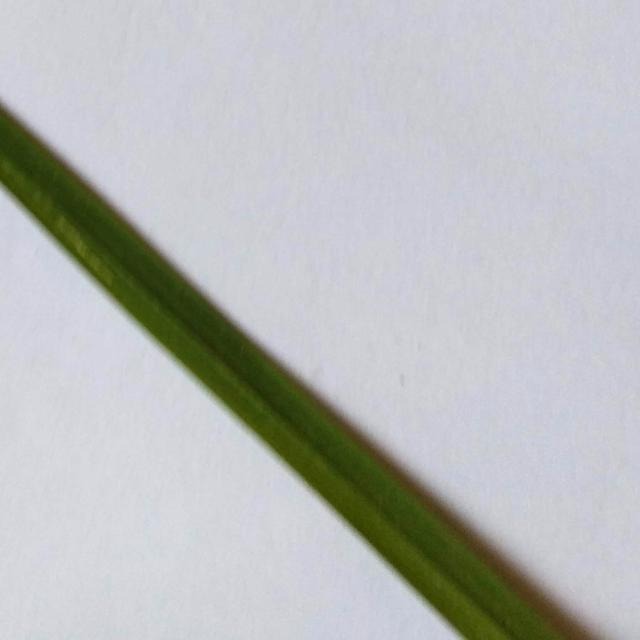Rice_Healthy: (0, 104, 597, 640)
